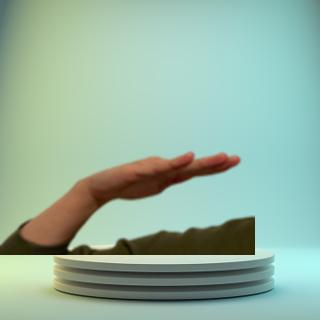WAIT: (89, 145, 246, 205)
